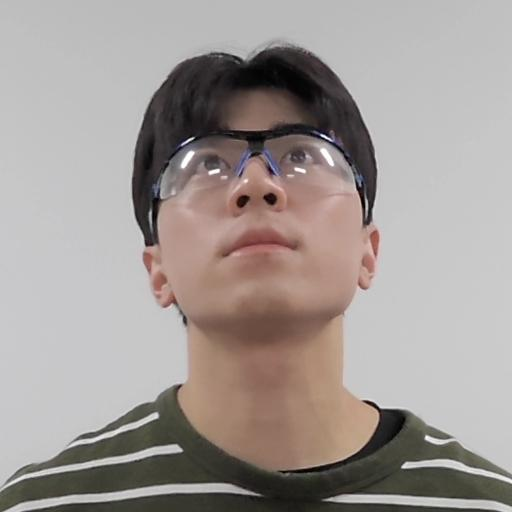glasses: (128, 45, 396, 359)
